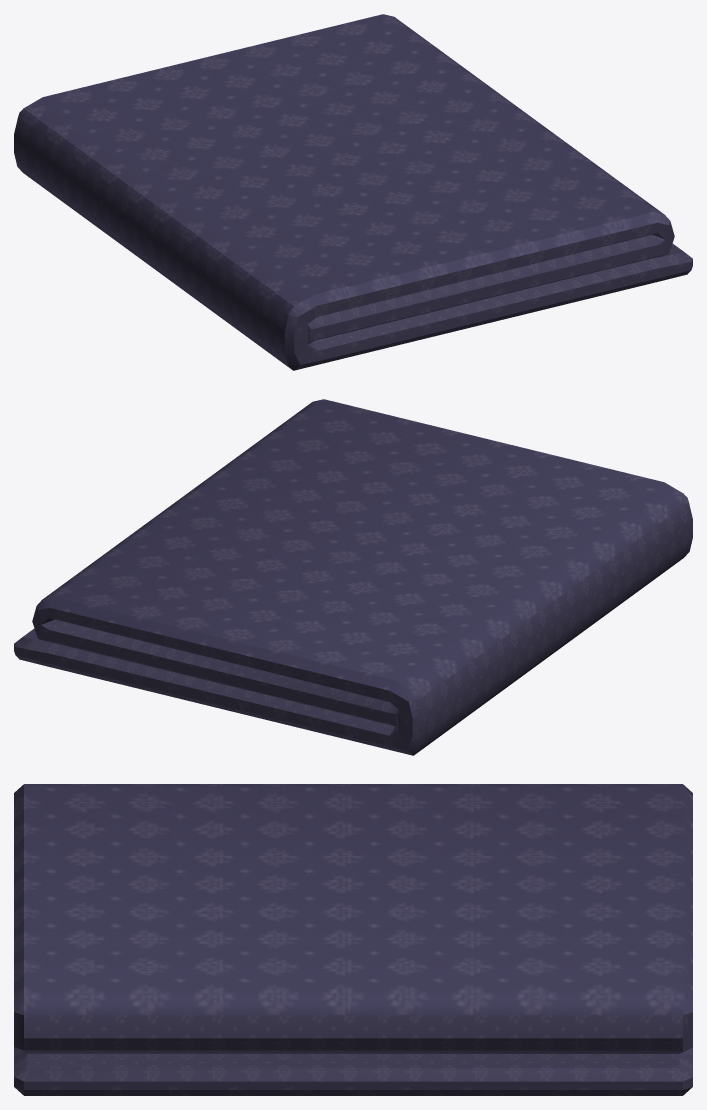
The model's file is Cloth01.FBX.
3 views of the same model, one above another, from view 1: azimuth 30°, elevation 25°; view 2: azimuth 150°, elevation 25°; view 3: azimuth 270°, elevation 25° (orthographic). The views are drawn at different scales.
Parts seen in each view (by area): view 1: Cloth01; view 2: Cloth01; view 3: Cloth01.
Boxes of the visible parts, x1=… form: Cloth01: x1=14, y1=14, x2=692, y2=370; Cloth01: x1=14, y1=399, x2=692, y2=755; Cloth01: x1=14, y1=784, x2=692, y2=1095.
Bounding box in the file's own units: 42.29 × 7 × 50.
Materials: 1 (1 with a texture image).
